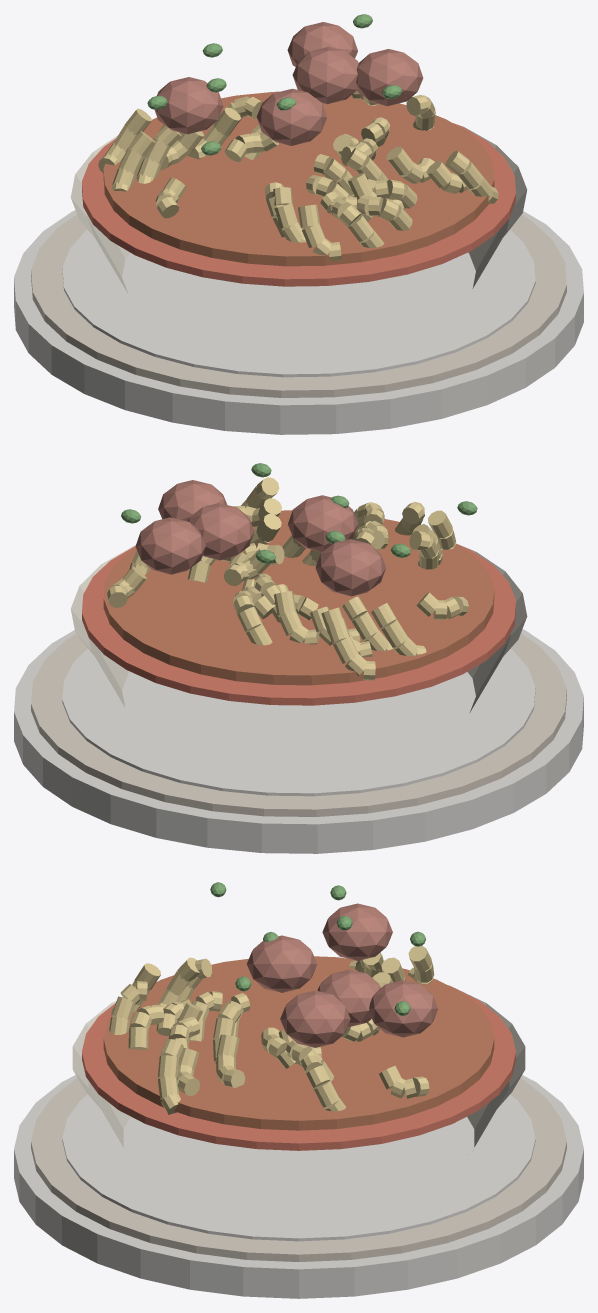
Rendered from mi_y_xuc_xich.glb.
The picture shows the model from 3 angles, top to bottom: view 1: azimuth 30°, elevation 25°; view 2: azimuth 150°, elevation 25°; view 3: azimuth 270°, elevation 25°; orthographic projection.
Parts seen in each view (by area): view 1: obj_0002, obj_0005, obj_0000, obj_0001, obj_0004, obj_0003, obj_0129, obj_0127, obj_0130, obj_0126, obj_0128; view 2: obj_0002, obj_0005, obj_0000, obj_0001, obj_0004, obj_0003, obj_0130, obj_0128, obj_0127, obj_0129, obj_0126, obj_0097 (+1 smaller); view 3: obj_0002, obj_0005, obj_0000, obj_0001, obj_0004, obj_0003, obj_0126, obj_0127, obj_0130, obj_0128, obj_0129.
Boxes of the visible parts, <box> form: obj_0002: <box>62,229,535,377</box>; obj_0005: <box>103,91,494,266</box>; obj_0000: <box>14,210,583,434</box>; obj_0001: <box>31,214,566,397</box>; obj_0004: <box>82,123,515,286</box>; obj_0003: <box>70,124,527,293</box>; obj_0129: <box>292,47,358,104</box>; obj_0127: <box>256,88,326,145</box>; obj_0130: <box>154,77,223,134</box>; obj_0126: <box>356,49,423,106</box>; obj_0128: <box>287,22,357,66</box>; obj_0002: <box>62,648,535,796</box>; obj_0005: <box>103,510,494,685</box>; obj_0000: <box>14,629,583,853</box>; obj_0001: <box>31,633,566,816</box>; obj_0004: <box>82,543,515,705</box>; obj_0003: <box>70,545,527,712</box>; obj_0130: <box>315,539,385,596</box>; obj_0128: <box>135,517,205,574</box>; obj_0127: <box>288,495,358,551</box>; obj_0129: <box>187,503,254,560</box>; obj_0126: <box>158,480,227,521</box>; obj_0097: <box>428,510,452,538</box>; obj_0002: <box>62,1094,535,1241</box>; obj_0005: <box>103,956,494,1130</box>; obj_0000: <box>14,1075,583,1298</box>; obj_0001: <box>31,1078,566,1261</box>; obj_0004: <box>82,985,515,1150</box>; obj_0003: <box>72,985,525,1147</box>; obj_0126: <box>280,990,350,1047</box>; obj_0127: <box>247,935,317,992</box>; obj_0130: <box>322,903,392,960</box>; obj_0128: <box>369,980,438,1037</box>; obj_0129: <box>317,969,380,1026</box>.
Bounding box in the file's own units: 2.1 × 0.945 × 2.1.
